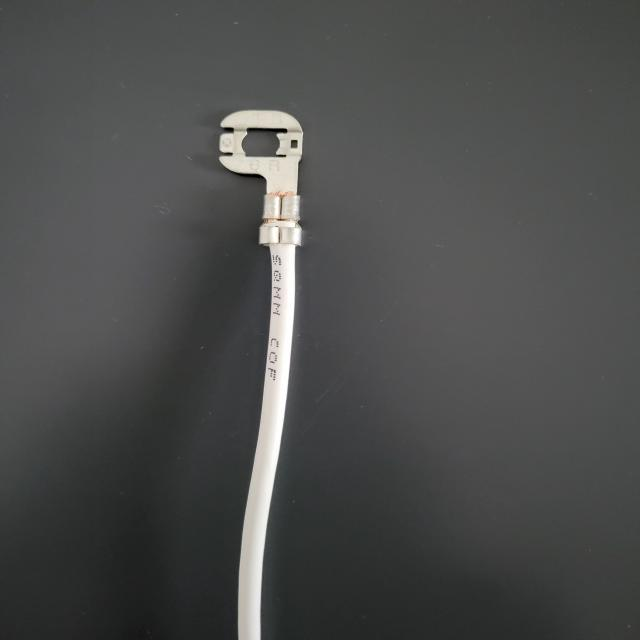good: (9, 8, 636, 640)
